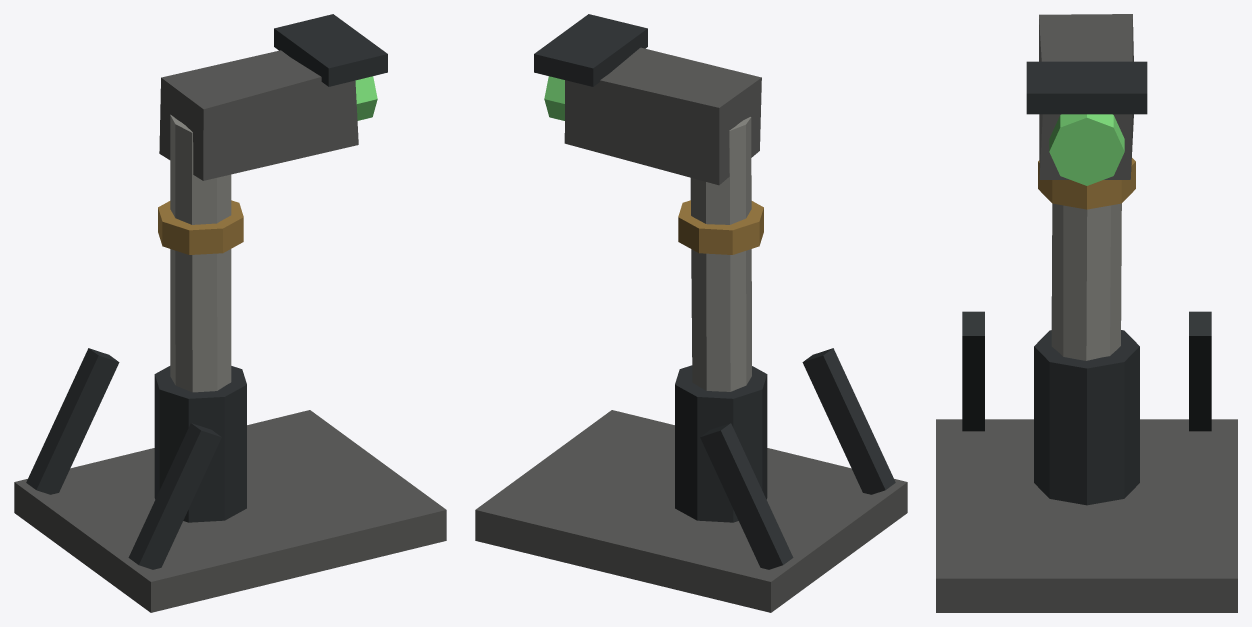
The model's file is util_periscope.glb.
3 views of the same model, side by side, from view 1: azimuth 30°, elevation 25°; view 2: azimuth 150°, elevation 25°; view 3: azimuth 270°, elevation 25° (orthographic). The views are drawn at different scales.
Parts seen in each view (by area): view 1: util_periscope; view 2: util_periscope; view 3: util_periscope.
Boxes of the visible parts, x1,y1,x2,y2 form: util_periscope: (14, 14, 446, 612); util_periscope: (475, 14, 907, 612); util_periscope: (936, 14, 1237, 612).
Size of the model in its own units: 0.5003 by 0.745 by 0.4.
